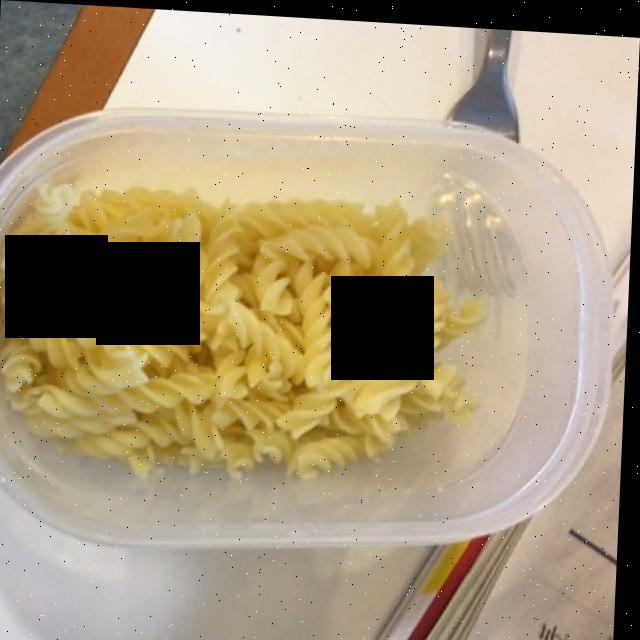pasta-twist: (6, 186, 485, 468)
